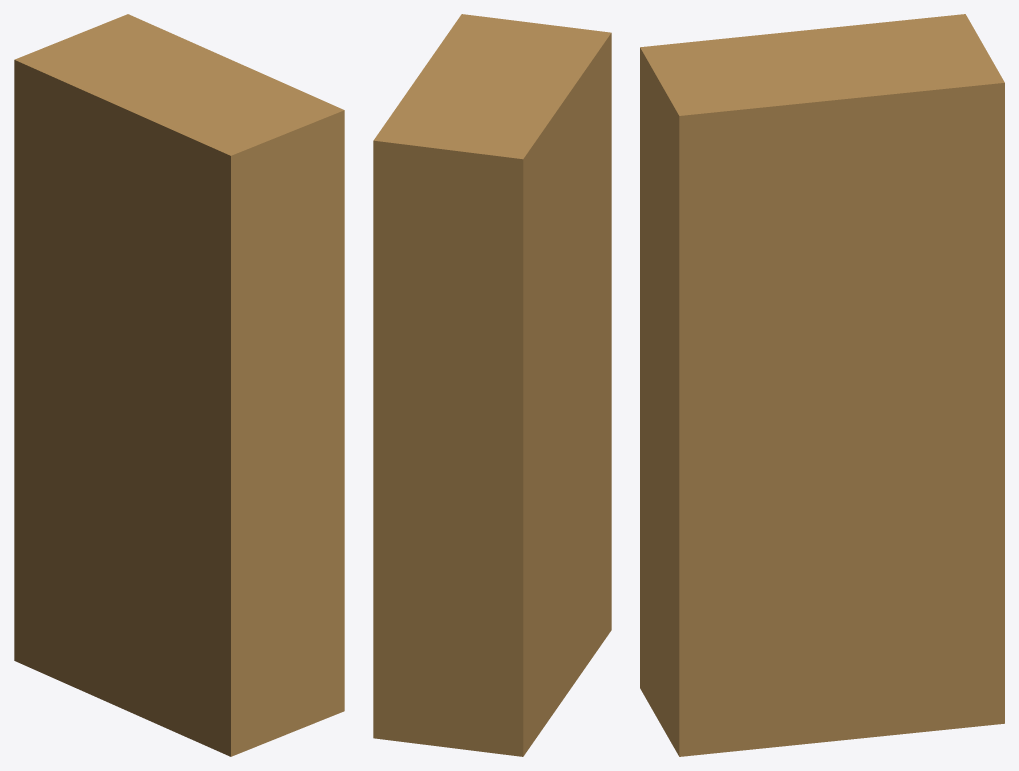
3 views of the same model, side by side, from view 1: azimuth 30°, elevation 25°; view 2: azimuth 150°, elevation 25°; view 3: azimuth 270°, elevation 25° (orthographic). The views are drawn at different scales.
Parts seen in each view (by area): view 1: GAP-11-L-king_stud-p2; view 2: GAP-11-L-king_stud-p2; view 3: GAP-11-L-king_stud-p2.
Part boxes in pixels (x1,y1,x2,y2): GAP-11-L-king_stud-p2: [14, 14, 344, 756]; GAP-11-L-king_stud-p2: [373, 14, 611, 756]; GAP-11-L-king_stud-p2: [640, 14, 1004, 756].
Bounding box in the file's own units: 0.0649 × 0.19 × 0.0981.
